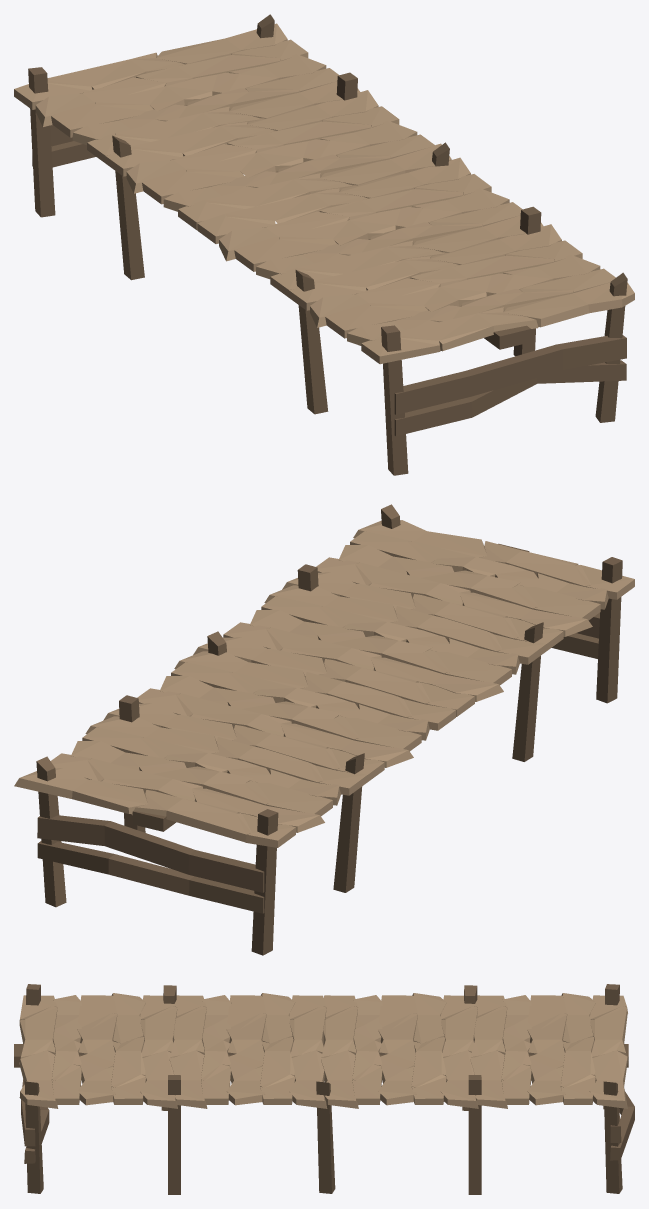
The model's file is Platform_7.fbx.
The picture shows the model from 3 angles, top to bottom: view 1: azimuth 30°, elevation 25°; view 2: azimuth 150°, elevation 25°; view 3: azimuth 270°, elevation 25°; orthographic projection. The views are drawn at different scales.
Parts seen in each view (by area): view 1: Platform_7; view 2: Platform_7; view 3: Platform_7.
Boxes of the visible parts, box(x1,y1,x2,y2) form: Platform_7: box(14, 14, 634, 475); Platform_7: box(14, 504, 634, 955); Platform_7: box(14, 984, 634, 1194).
Size of the model in its own units: 524 by 259 by 1238.
Materials: 1 (1 with a texture image).
